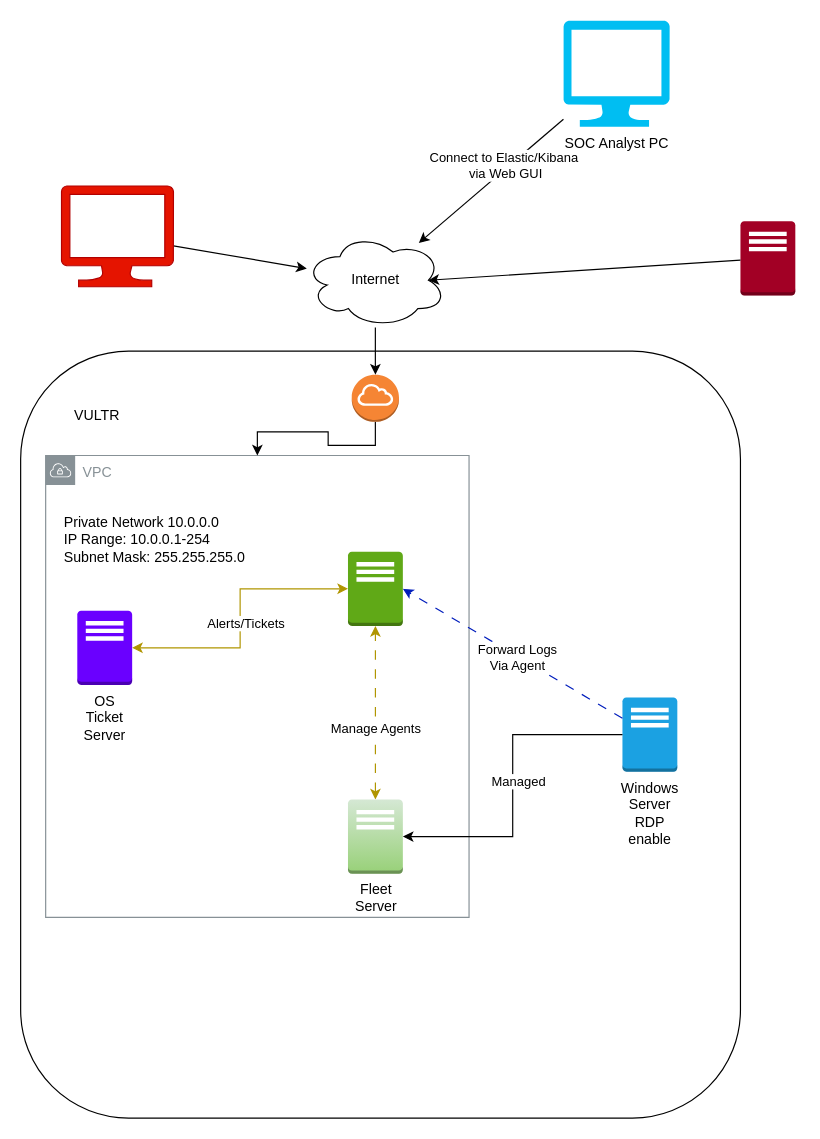
This 820x1139 diagram has some shape labels left out. Here are the shapes that lost their labels. From the top down, the centre of each, then its label:
point (116, 236): Attacker PC Kali Linux
point (767, 258): C2 Server Mythic
point (375, 588): Elastic & Kibana
